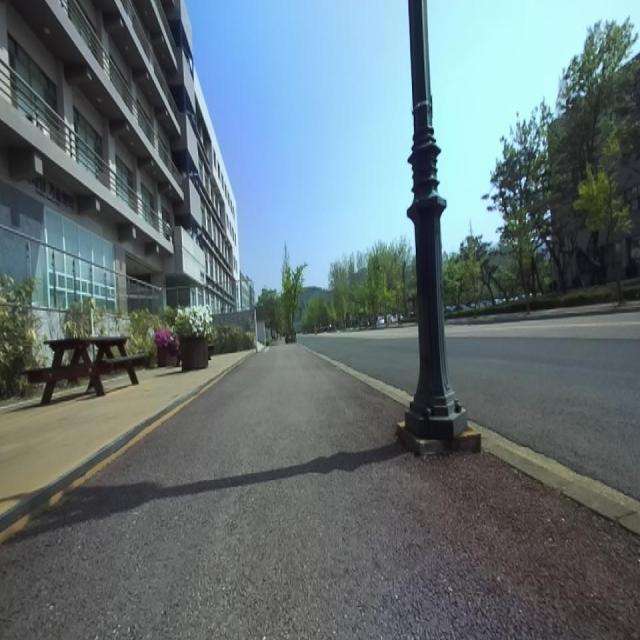sidewalk: (0, 343, 640, 638), (481, 433, 640, 535), (313, 351, 411, 404)
